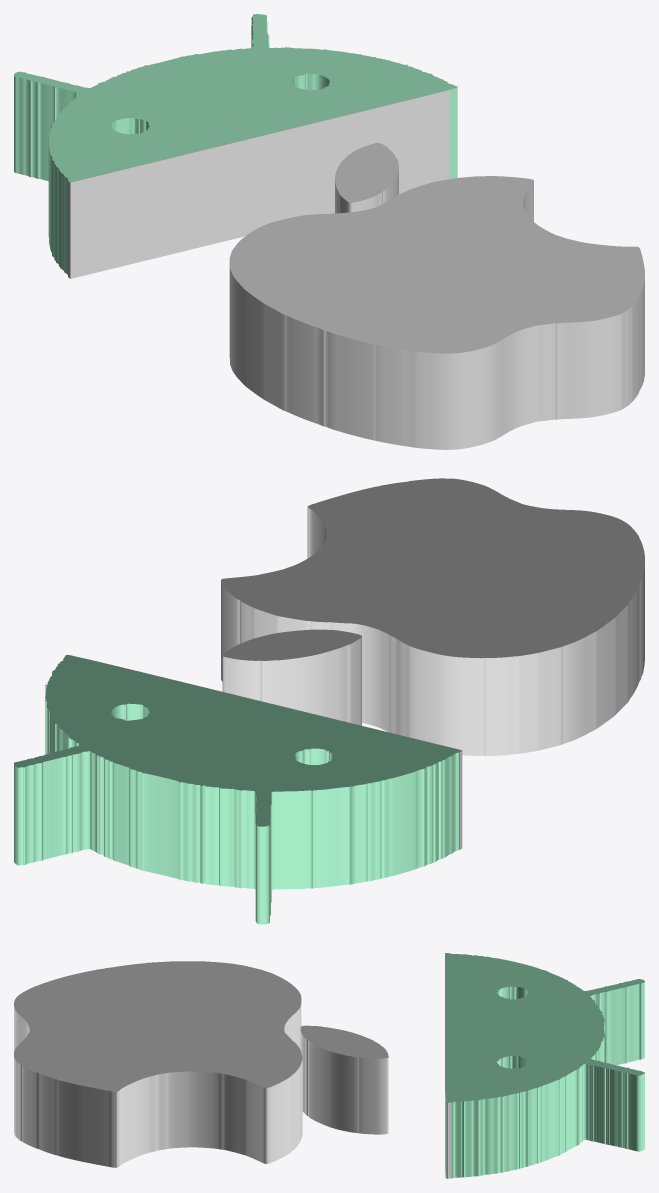
The model's file is androidios.glb.
3 renders of one model, top to bottom at view 1: azimuth 30°, elevation 25°; view 2: azimuth 150°, elevation 25°; view 3: azimuth 270°, elevation 25°, orthographic. The views are drawn at different scales.
Parts seen in each view (by area): view 1: Node1, Node4, Node3, Node2; view 2: Node1, Node4, Node2, Node3; view 3: Node1, Node4, Node2, Node3.
Boxes of the visible parts, bbox=[...] form: Node1: bbox=[229, 176, 644, 449]; Node4: bbox=[14, 14, 456, 274]; Node3: bbox=[68, 85, 457, 278]; Node2: bbox=[335, 142, 398, 213]; Node1: bbox=[221, 478, 644, 755]; Node4: bbox=[14, 655, 459, 924]; Node2: bbox=[222, 629, 361, 725]; Node3: bbox=[65, 655, 462, 849]; Node1: bbox=[14, 961, 302, 1167]; Node4: bbox=[445, 953, 644, 1178]; Node2: bbox=[300, 1025, 388, 1134]; Node3: bbox=[445, 953, 451, 1178].
Size of the model in its own units: 4.23 by 1 by 7.53.
